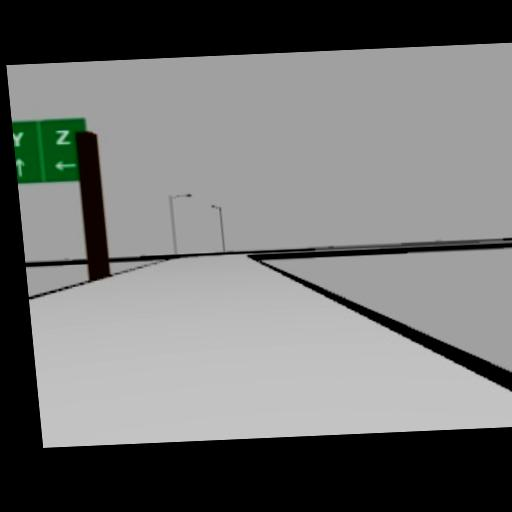Left: (53, 158, 75, 169)
Straight: (15, 156, 25, 176)
Y: (13, 130, 24, 146)
Z: (53, 128, 72, 144)
